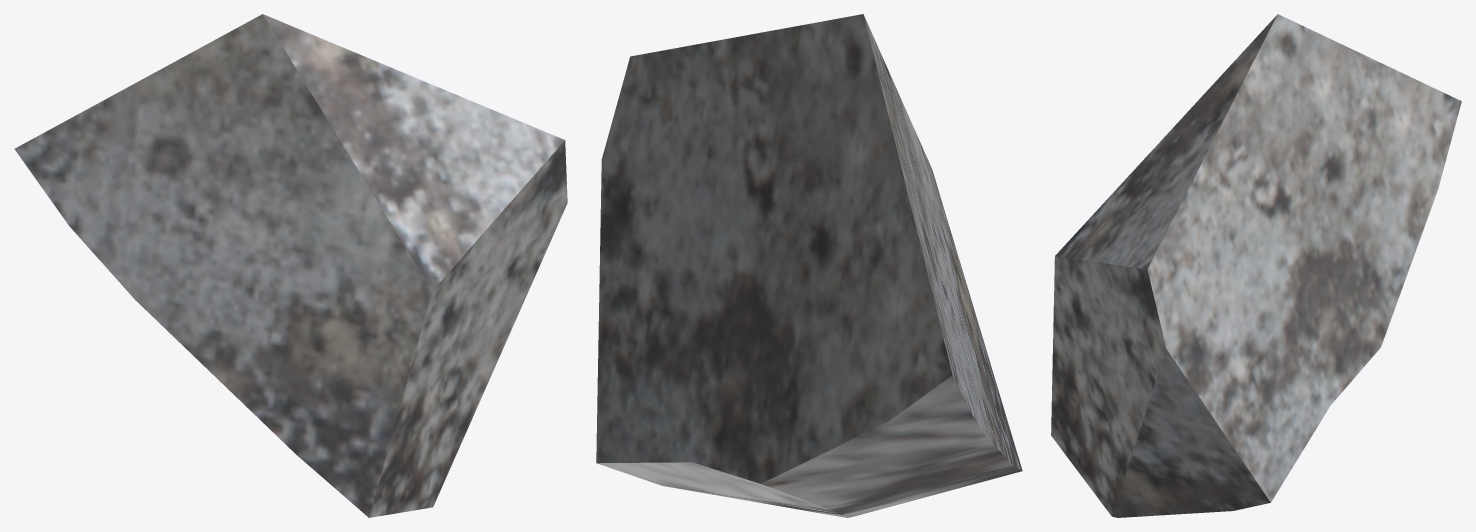
The model's file is Asteroid_Large_001_02_005_03_009.fbx.
3 views of the same model, side by side, from view 1: azimuth 30°, elevation 25°; view 2: azimuth 150°, elevation 25°; view 3: azimuth 270°, elevation 25° (orthographic). The views are drawn at different scales.
Visible parts, largest first — view 1: Asteroid_Large_001_02_005_03_009; view 2: Asteroid_Large_001_02_005_03_009; view 3: Asteroid_Large_001_02_005_03_009.
Boxes of the visible parts, bbox=[...] form: Asteroid_Large_001_02_005_03_009: bbox=[14, 14, 567, 517]; Asteroid_Large_001_02_005_03_009: bbox=[596, 14, 1022, 517]; Asteroid_Large_001_02_005_03_009: bbox=[1051, 14, 1461, 517].
Bounding box in the file's own units: 4.58 × 4.89 × 3.96.
